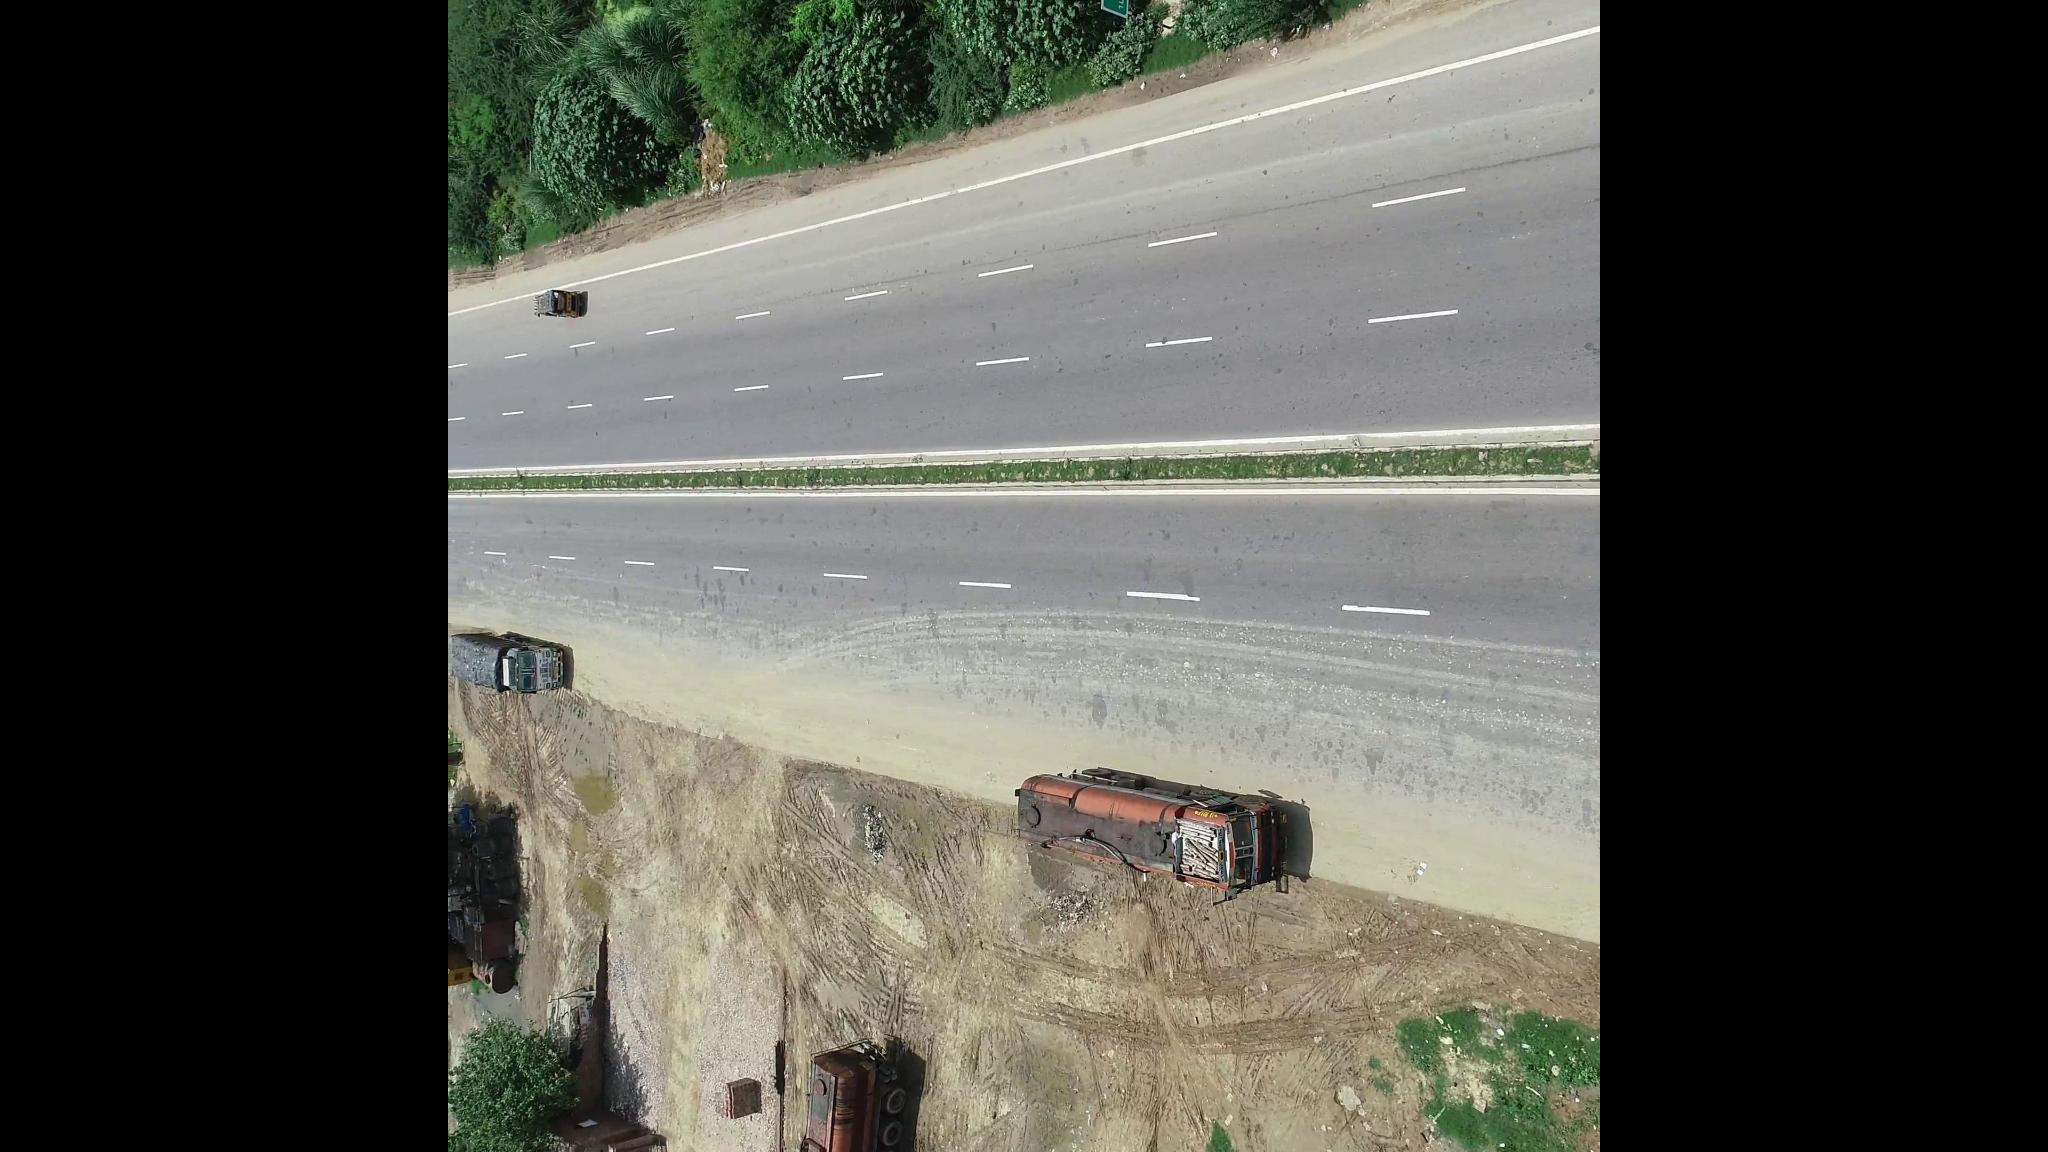Muddy_road: (629, 648, 933, 772), (1339, 810, 1596, 923)
